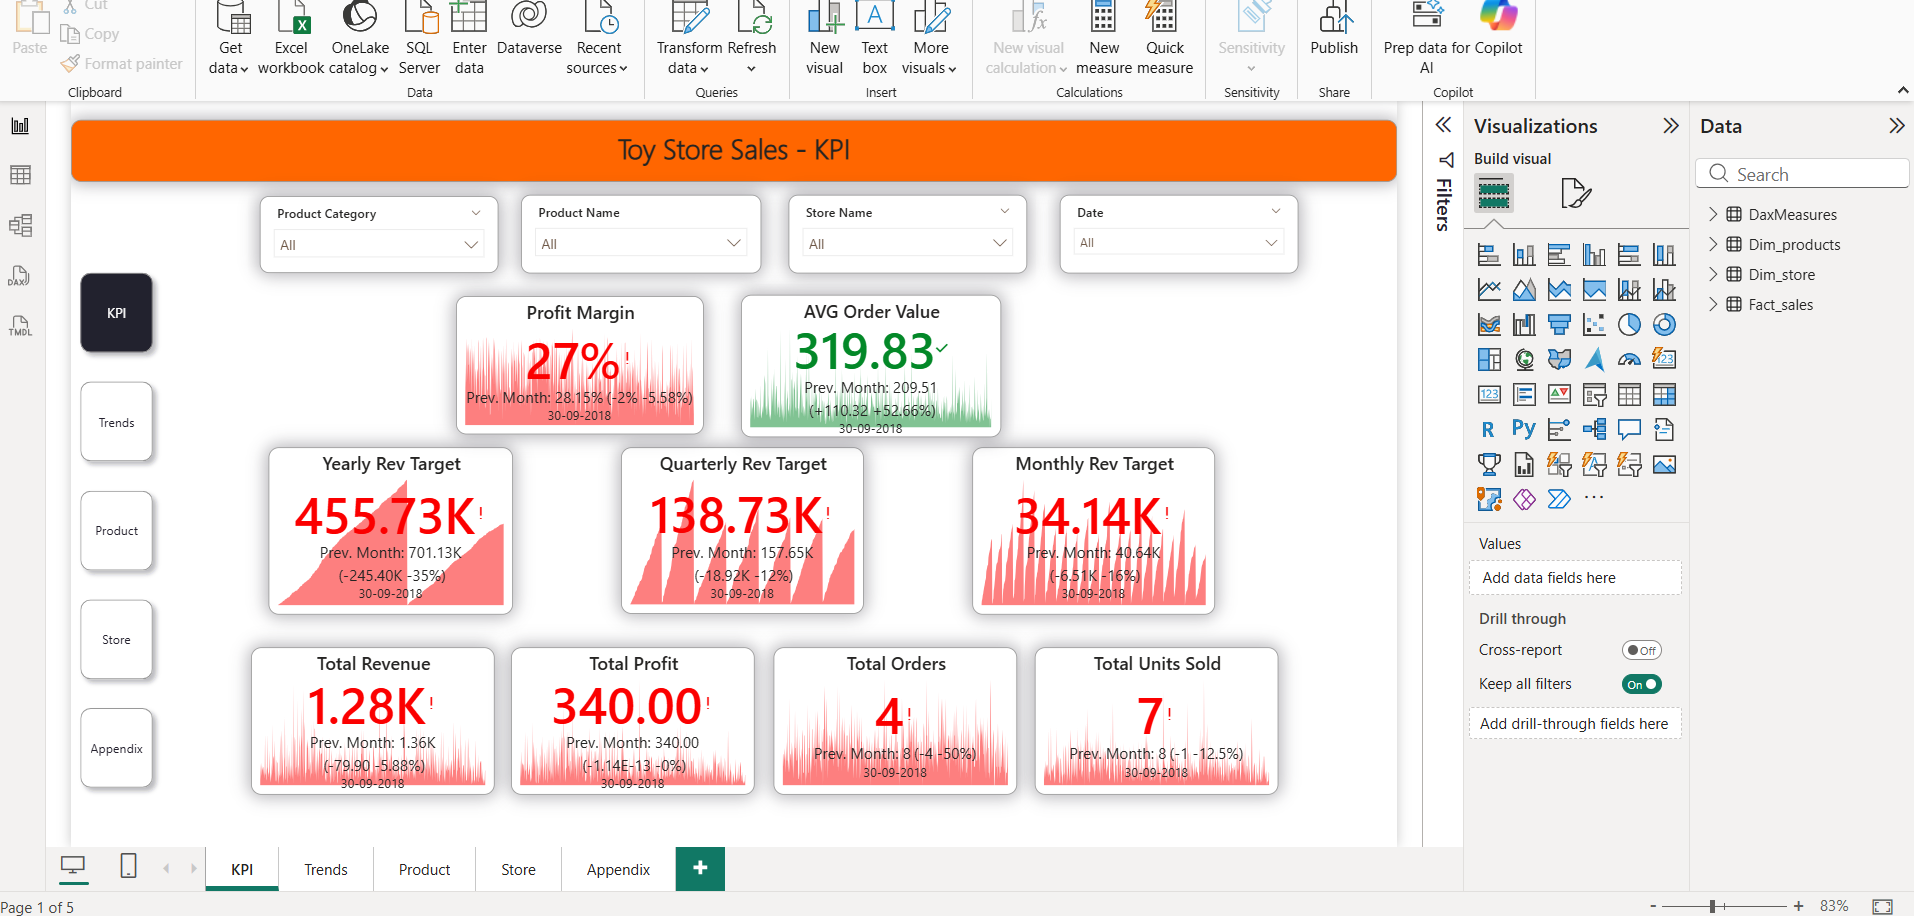

What the dashboard file says about the page in this screenshot:
{"tool":"powerbi","page":{"name":"KPI","canvas":[1280,720],"ordinal":0},"visuals":[{"type":"textbox","box":[0,17.9,1280.1,60.2],"z":0},{"type":"kpi","title":"Total Revenue","fields":{"Indicator":["DaxMeasures.Total Revenue"],"TrendLine":["Fact_sales.Date"],"Goal":["DaxMeasures.PrevDay"]},"box":[173.7,527.2,235.4,142.4],"z":0,"group":"g1"},{"type":"slicer","fields":{"Values":["Dim_products.Product_Category"]},"box":[182.2,92,230.2,74.5],"z":1000,"group":"g4"},{"type":"pageNavigator","box":[0,156.8,88.1,517.6],"z":1000},{"type":"kpi","title":"Total Profit ","fields":{"Indicator":["DaxMeasures.Total Profit"],"TrendLine":["Fact_sales.Date"],"Goal":["DaxMeasures.PrevDayProfit"]},"box":[425.2,527.2,235.4,142.4],"z":1000,"group":"g1"},{"type":"slicer","fields":{"Values":["Dim_products.Product_Name"]},"box":[434.1,90.5,231.9,76],"z":2000,"group":"g4"},{"type":"group","id":"g1","title":"Group 1","box":[173.7,527.2,992.9,142.4],"z":2000},{"type":"kpi","title":"Total Orders","fields":{"Indicator":["CountNonNull(Fact_sales.SaleID)"],"TrendLine":["Fact_sales.Date"],"Goal":["DaxMeasures.PrevDayOrders"]},"box":[677.8,527.2,235.4,142.4],"z":2000,"group":"g1"},{"type":"slicer","fields":{"Values":["Dim_store.Store_Name"]},"box":[692.7,90.5,230.2,76],"z":3000,"group":"g4"},{"type":"group","id":"g2","title":"Group 3","box":[190.6,334.2,912.1,160.5],"z":3000},{"type":"kpi","title":"Total Units Sold","fields":{"Indicator":["Sum(Fact_sales.Units)"],"TrendLine":["Fact_sales.Date"],"Goal":["DaxMeasures.PrevDayUnits"]},"box":[930.5,527.2,235.4,142.4],"z":3000,"group":"g1"},{"type":"slicer","fields":{"Values":["Fact_sales.Date"]},"box":[954.5,90.5,230.2,76],"z":4000,"group":"g4"},{"type":"group","id":"g3","title":"Group 4","box":[371.6,187,526,137.5],"z":4000},{"type":"kpi","title":"Profit Margin ","fields":{"Indicator":["DaxMeasures.Profit Margin"],"Goal":["DaxMeasures.PrevMonthMargin"],"TrendLine":["Fact_sales.Date"]},"box":[371.6,188.2,238.9,133.9],"z":4000,"group":"g3"},{"type":"group","id":"g4","title":"Group 2","box":[182.2,90.5,1002.6,76],"z":5000},{"type":"kpi","title":"AVG Order Value","fields":{"Indicator":["DaxMeasures.AVGOrderValue"],"Goal":["DaxMeasures.PrevMonth_AvgOrderVal"],"TrendLine":["Fact_sales.Date"]},"box":[646.7,187,250.9,137.5],"z":5000,"group":"g3"},{"type":"kpi","title":"Yearly Rev Target","fields":{"Indicator":["DaxMeasures.TotalYTD"],"TrendLine":["Fact_sales.Date"],"Goal":["DaxMeasures.PrevYearRev"]},"box":[190.6,334.2,236.2,161.7],"z":6000,"group":"g2"},{"type":"kpi","title":"Monthly Rev Target","fields":{"Indicator":["DaxMeasures.TotalMTD"],"TrendLine":["Fact_sales.Date"],"Goal":["DaxMeasures.PrevMonth"]},"box":[869.3,334.2,234.5,161.7],"z":7000,"group":"g2"},{"type":"kpi","title":"Quarterly Rev Target ","fields":{"Indicator":["DaxMeasures.TotalQTD"],"TrendLine":["Fact_sales.Date"],"Goal":["DaxMeasures.PrevQTDRev"]},"box":[531.2,334.6,234.5,161],"z":14000,"group":"g2"}]}

Visuals, with their boxes on the page's 1280x720 design canvas (x1, y1, x2, y2). These are canvas units, not pixel positions in the 1914x916 screenshot, which may show the page scaled, cropped or inside an application window:
textbox: (left=0, top=18, right=1280, bottom=78)
"Total Revenue" kpi: (left=174, top=527, right=409, bottom=670)
slicer - Dim_products.Product_Category: (left=182, top=92, right=412, bottom=166)
pageNavigator: (left=0, top=157, right=88, bottom=674)
"Total Profit " kpi: (left=425, top=527, right=661, bottom=670)
slicer - Dim_products.Product_Name: (left=434, top=90, right=666, bottom=166)
"Group 1" group: (left=174, top=527, right=1167, bottom=670)
"Total Orders" kpi: (left=678, top=527, right=913, bottom=670)
slicer - Dim_store.Store_Name: (left=693, top=90, right=923, bottom=166)
"Group 3" group: (left=191, top=334, right=1103, bottom=495)
"Total Units Sold" kpi: (left=930, top=527, right=1166, bottom=670)
slicer - Fact_sales.Date: (left=954, top=90, right=1185, bottom=166)
"Group 4" group: (left=372, top=187, right=898, bottom=324)
"Profit Margin " kpi: (left=372, top=188, right=610, bottom=322)
"Group 2" group: (left=182, top=90, right=1185, bottom=166)
"AVG Order Value" kpi: (left=647, top=187, right=898, bottom=324)
"Yearly Rev Target" kpi: (left=191, top=334, right=427, bottom=496)
"Monthly Rev Target" kpi: (left=869, top=334, right=1104, bottom=496)
"Quarterly Rev Target " kpi: (left=531, top=335, right=766, bottom=496)
